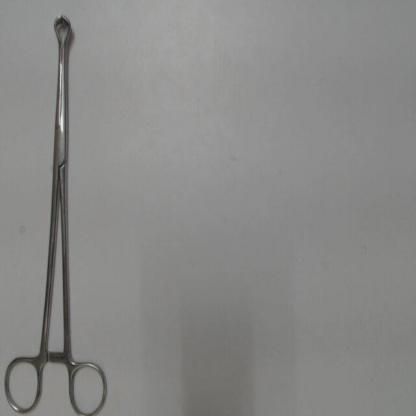8 Babcock Tissue Forceps: (3, 8, 112, 413)
